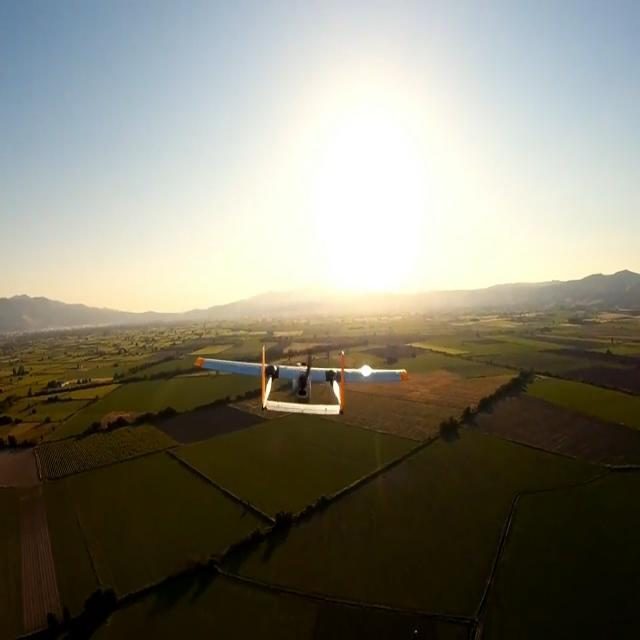iha: (192, 369, 414, 391)
